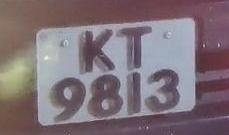1: (123, 67, 150, 120)
3: (141, 66, 185, 116)
8: (89, 70, 127, 119)
9: (45, 73, 88, 126)
K: (77, 26, 126, 76)
T: (116, 22, 158, 75)
